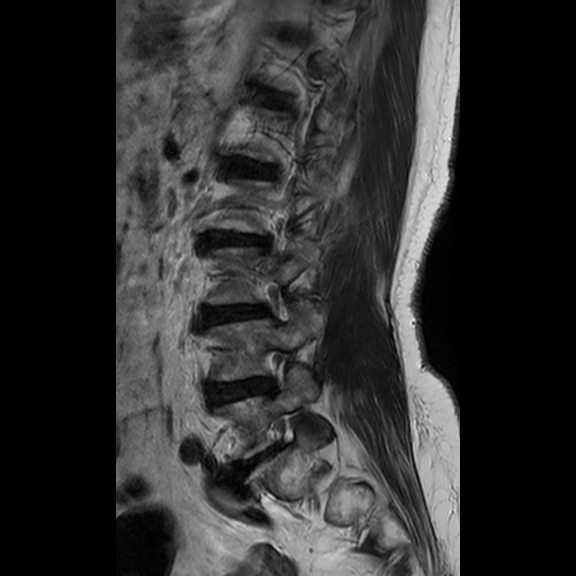LFS0: (254, 269, 300, 331)
LFS1: (249, 342, 295, 404)
